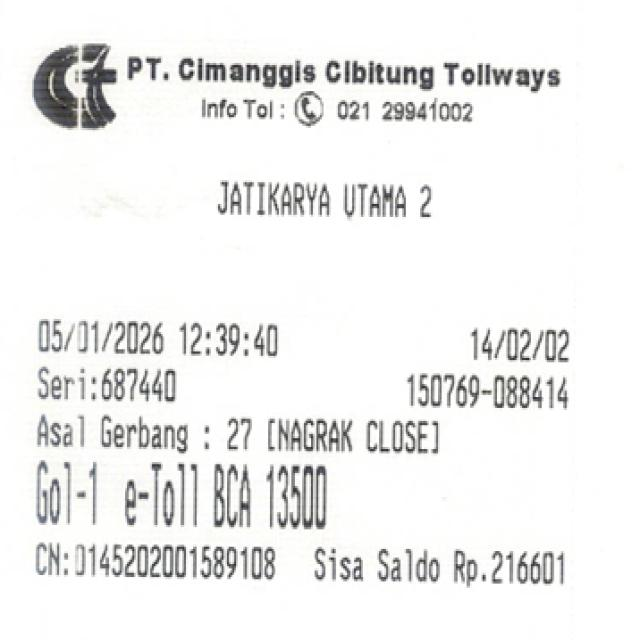date: (34, 317, 290, 373)
store: (119, 48, 577, 121)
total: (256, 458, 345, 542)
